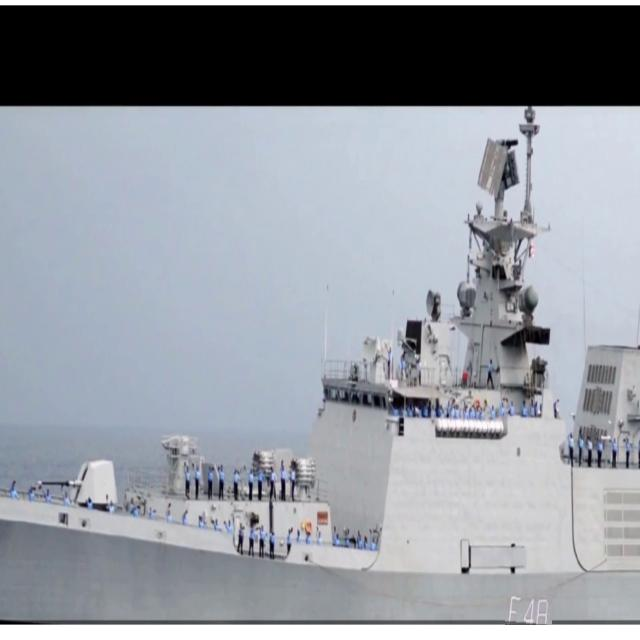OCR: (500, 588, 552, 625)
